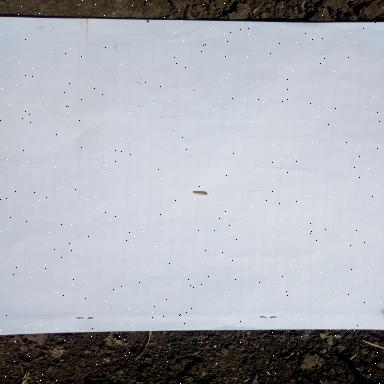pbw: (192, 191, 208, 197)
